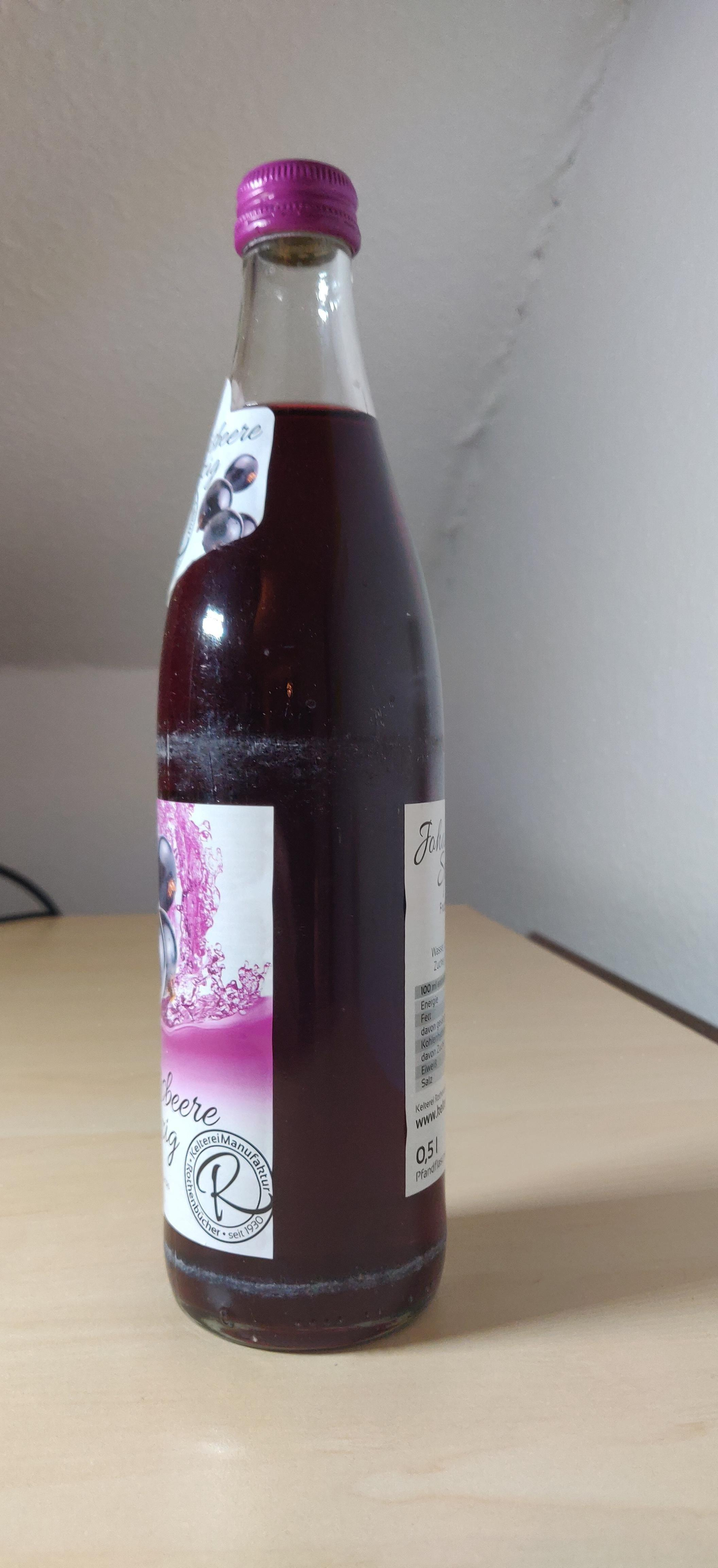bottle-glass: (148, 158, 459, 1358)
